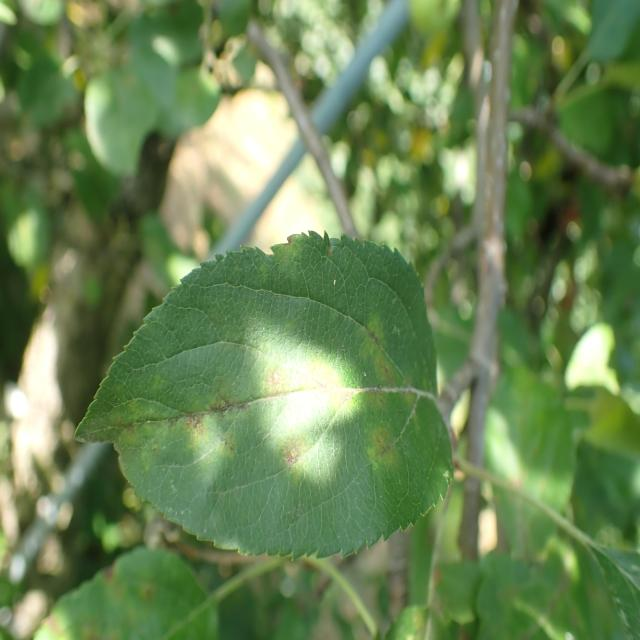scab: (98, 276, 441, 534)
